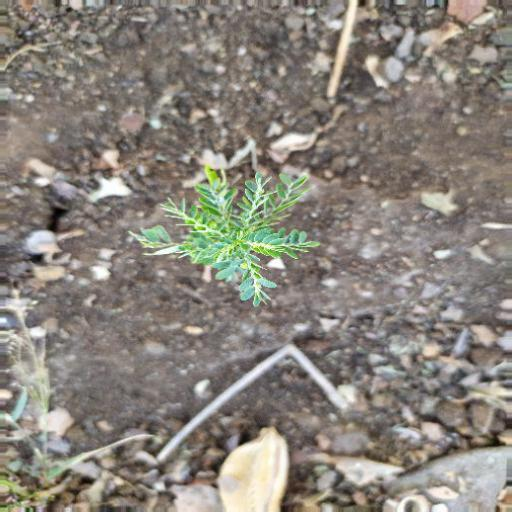weed: (134, 161, 316, 307)
